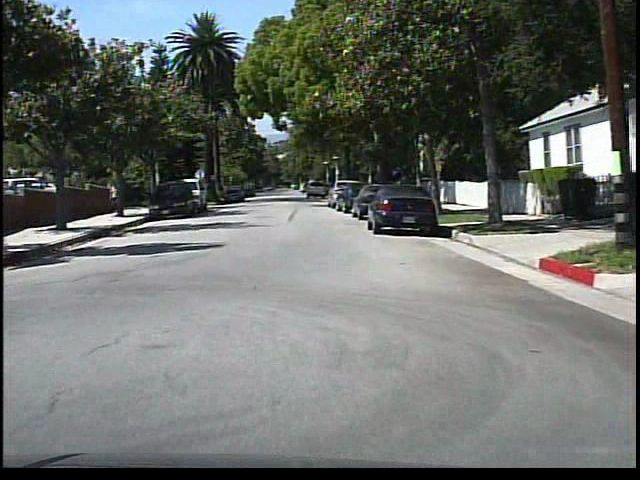person: (106, 178, 123, 216)
